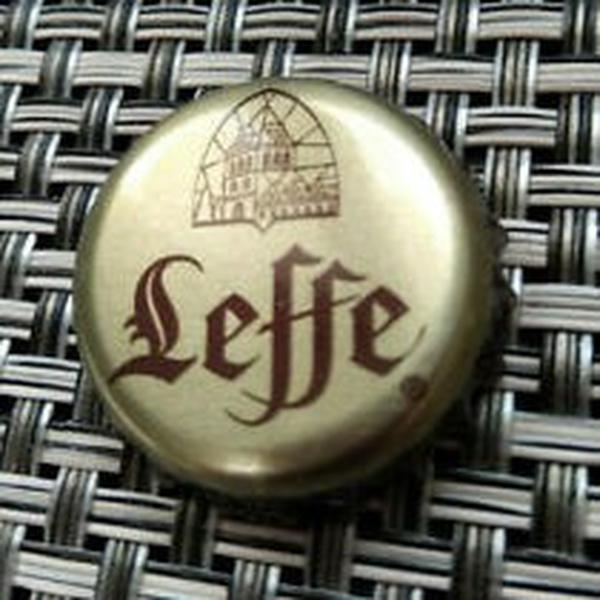leffe: (70, 74, 510, 515)
